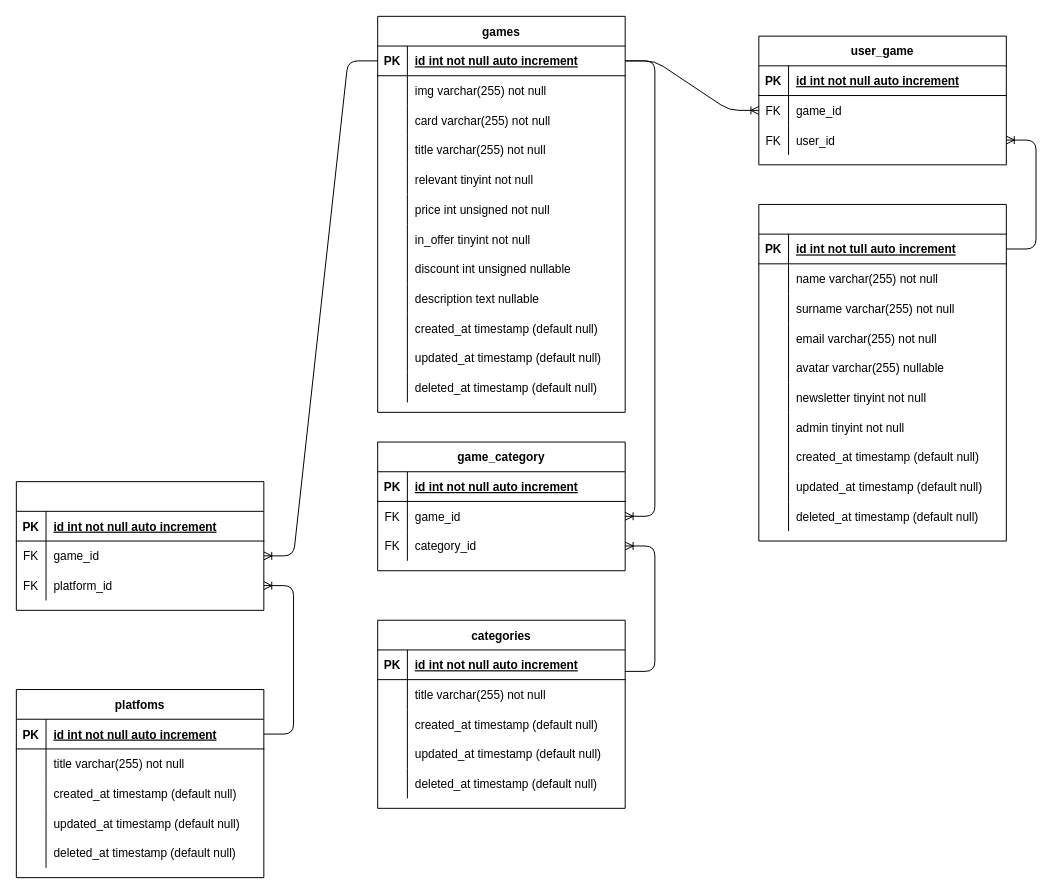
This 1052x894 diagram has some shape labels left out. The box of each missing label's shape, as (x1, y1, x2, y2) in pixels:
game_platform: (15, 481, 264, 610)
users: (758, 203, 1006, 541)
